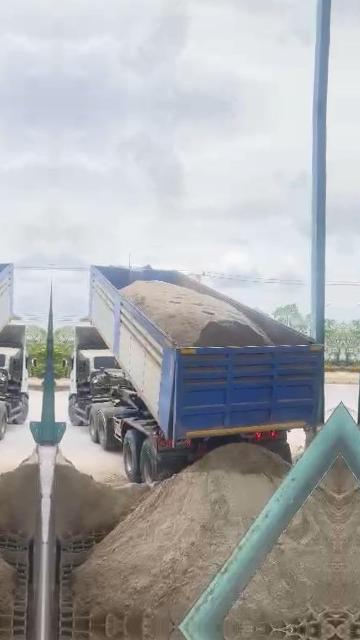sand: (73, 444, 288, 626), (225, 488, 338, 627), (122, 281, 272, 345), (55, 452, 149, 538), (258, 608, 336, 631), (322, 454, 340, 494)
